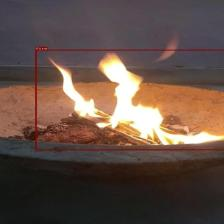fire: (34, 49, 224, 150)
